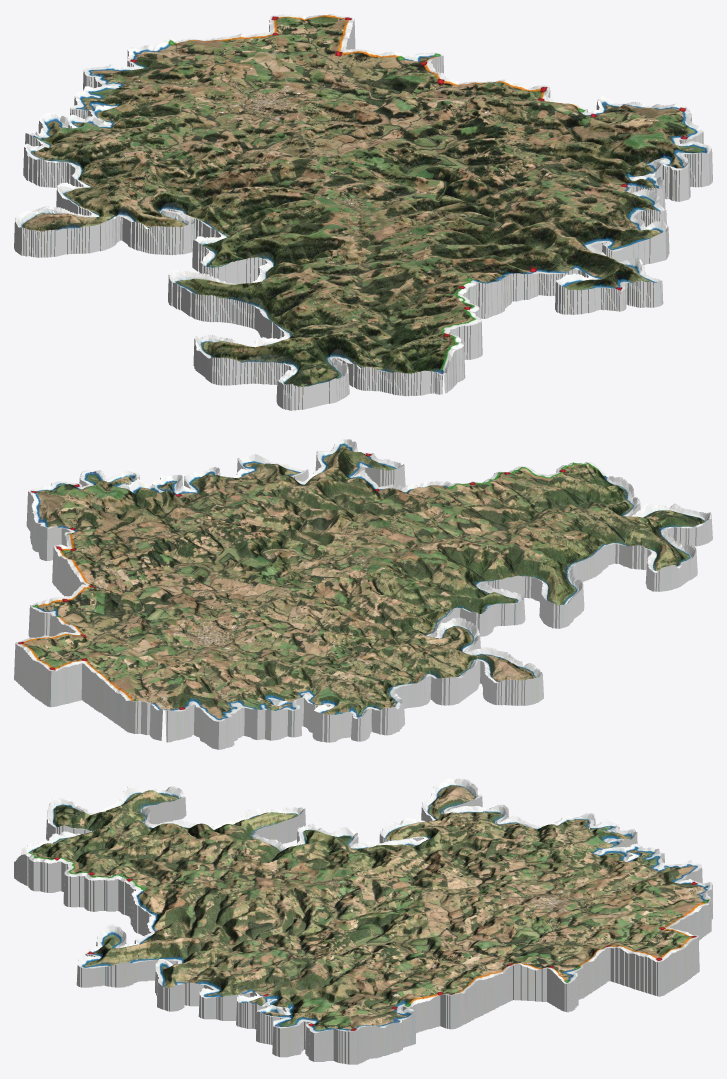
The picture shows the model from 3 angles, top to bottom: view 1: azimuth 30°, elevation 25°; view 2: azimuth 150°, elevation 25°; view 3: azimuth 270°, elevation 25°; orthographic projection. The views are drawn at different scales.
Bounding box in the file's own units: 0.9997 × 0.0676 × 1.12.
Materials: 1 (1 with a texture image).
